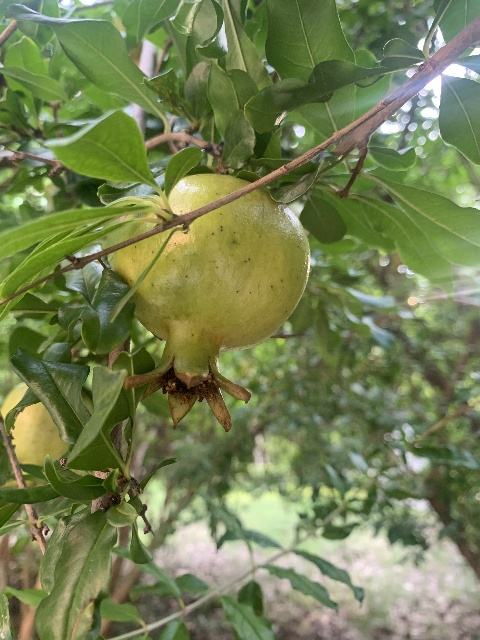mid-growth: (111, 173, 311, 437)
